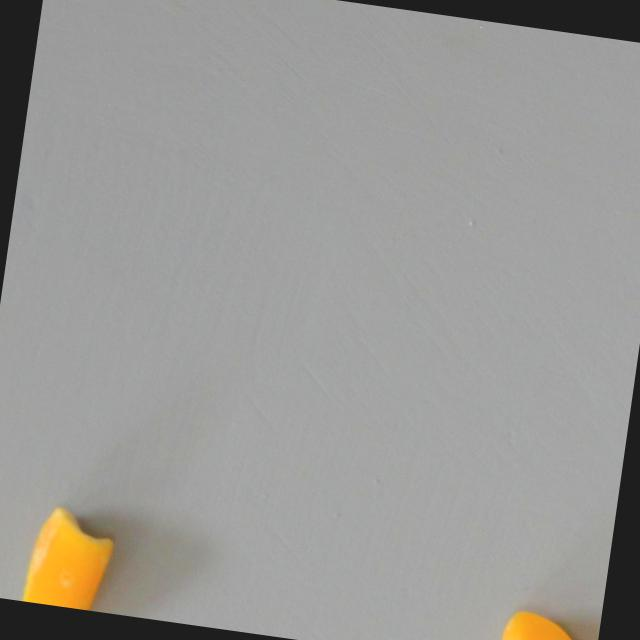dañado: (499, 605, 601, 640)
pelicula: (16, 502, 119, 613)
